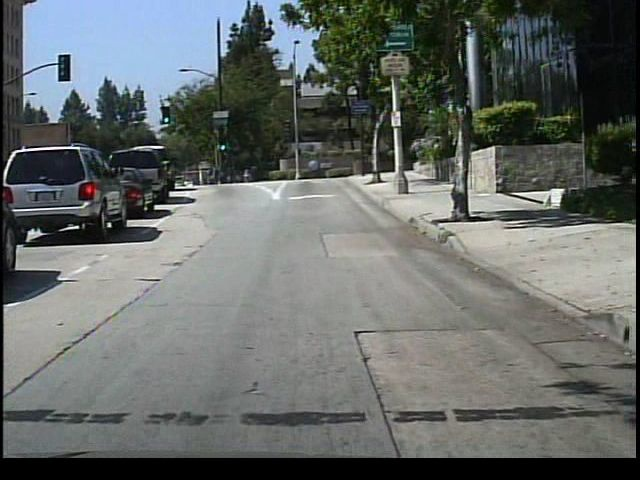person: (214, 162, 228, 186)
